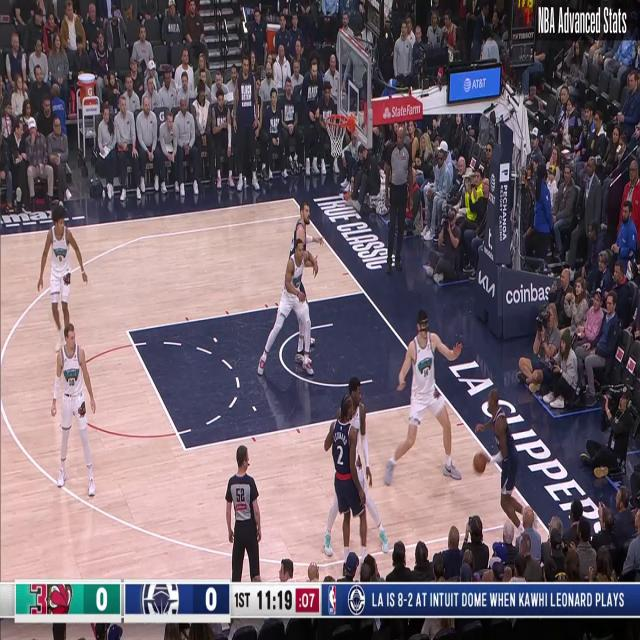ball: (472, 448, 487, 480)
judge: (226, 440, 264, 597), (385, 124, 411, 274)
player: (384, 309, 459, 486), (322, 374, 392, 562), (255, 238, 317, 388), (274, 198, 324, 378), (468, 391, 526, 536), (322, 395, 366, 570), (52, 323, 97, 493), (38, 212, 87, 344)
